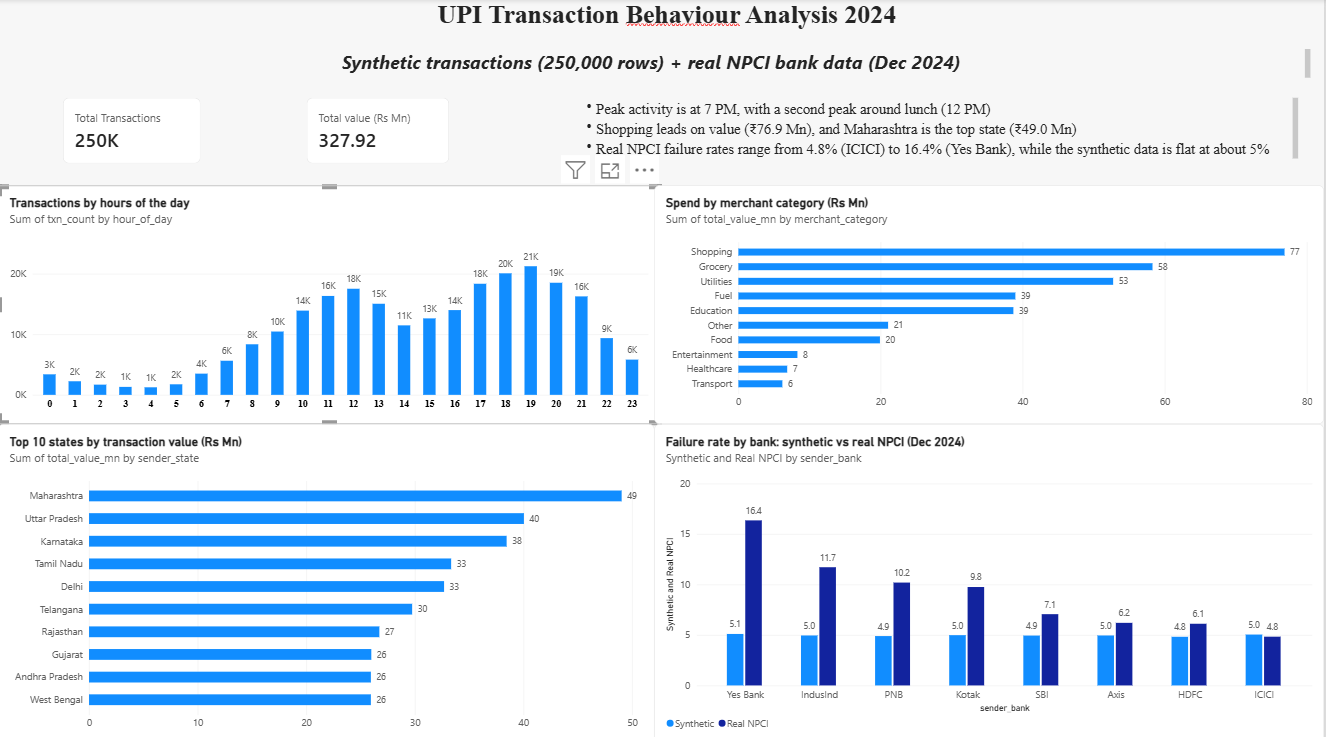

Layout of this report page (visuals, bound fields, positions):
{"tool":"powerbi","page":{"name":"UPI Dashboard","canvas":[1920,1080],"ordinal":0},"visuals":[{"type":"textbox","box":[16.5,0,1904,72],"z":1},{"type":"textbox","box":[0,72,1899.8,47.3],"z":2},{"type":"cardVisual","fields":{"Data":["Sum(q4_categories.txn_count)"]},"box":[94.1,143,199.1,95.9],"z":3},{"type":"cardVisual","fields":{"Data":["Sum(q4_categories.total_value_mn)"]},"box":[447,143,206.3,95.9],"z":4},{"type":"clusteredColumnChart","title":"Transactions by hours of the day","fields":{"Category":["q1_hourly.hour_of_day"],"Y":["Sum(q1_hourly.txn_count)"]},"box":[0,269.6,959.1,345.6],"z":5},{"type":"clusteredBarChart","title":"Spend by merchant category (Rs Mn)","fields":{"Category":["q4_categories.merchant_category"],"Y":["Sum(q4_categories.total_value_mn)"]},"box":[950.1,269.6,970,345.6],"z":6},{"type":"clusteredBarChart","title":"Top 10 states by transaction value (Rs Mn)","fields":{"Category":["q5_states.sender_state"],"Y":["Sum(q5_states.total_value_mn)"]},"box":[0,615.3,950.1,465.1],"z":7},{"type":"clusteredColumnChart","title":"Failure rate by bank: synthetic vs real NPCI (Dec 2024)","fields":{"Category":["q2_bank_failure.sender_bank"],"Y":["Sum(q2_bank_failure.synthetic_fail_pct)","Sum(q2_bank_failure.real_fail_pct)"]},"box":[950.1,615.3,970,465.1],"z":8},{"type":"textbox","box":[834.3,143,1047.8,95.9],"z":9}]}

Visuals, with their boxes in screenshot pixels (x1, y1, x2, y2), scaled from the page's 1920x1080 canvas onto the 1326x737 screenshot:
textbox: (11, 0, 1325, 49)
textbox: (0, 49, 1312, 81)
cardVisual - Sum(q4_categories.txn_count): (65, 98, 202, 163)
cardVisual - Sum(q4_categories.total_value_mn): (309, 98, 451, 163)
"Transactions by hours of the day" clusteredColumnChart: (0, 184, 662, 420)
"Spend by merchant category (Rs Mn)" clusteredBarChart: (656, 184, 1325, 420)
"Top 10 states by transaction value (Rs Mn)" clusteredBarChart: (0, 420, 656, 736)
"Failure rate by bank: synthetic vs real NPCI (Dec 2024)" clusteredColumnChart: (656, 420, 1325, 736)
textbox: (576, 98, 1300, 163)
